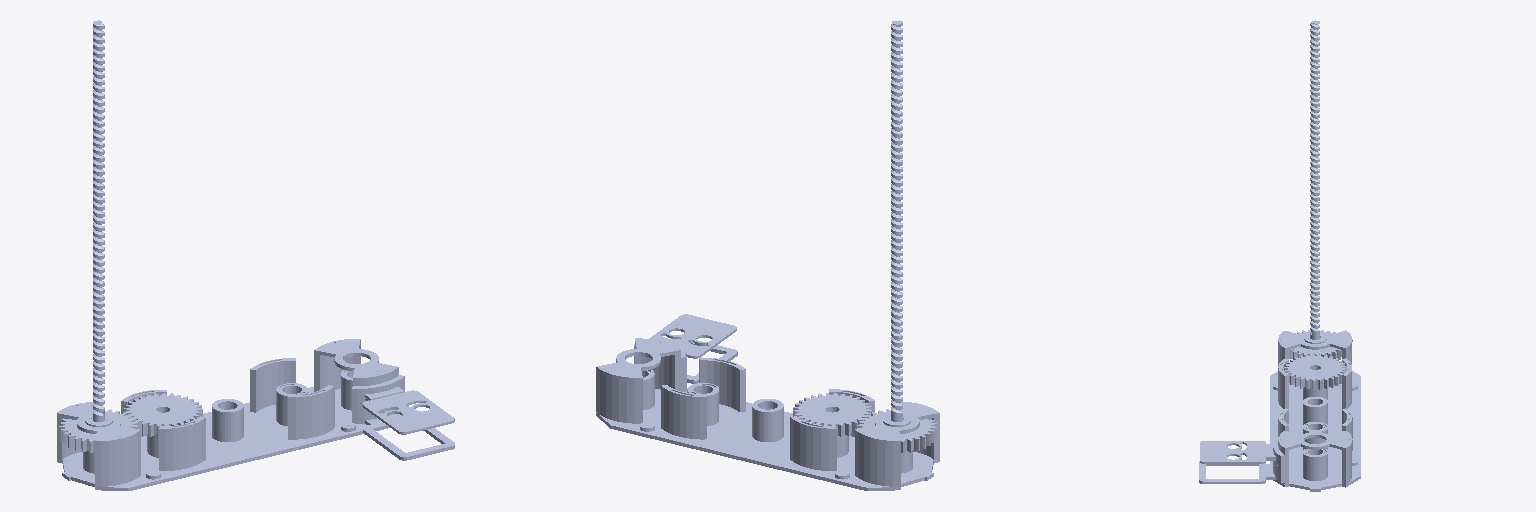
The robot description file, URDF, robot "solidworks2ros_try34":
<?xml version="1.0" encoding="utf-8"?>
<!-- This URDF was automatically created by SolidWorks to URDF Exporter! Originally created by [author] ([email redacted]) 
     Commit Version: 1.6.0-4-g7f85cfe  Build Version: 1.6.7995.38578
     For more information, please see http://wiki.ros.org/sw_urdf_exporter -->
<robot
  name="solidworks2ros_try34">

  <link name = "dummy">
  </link>

  <joint name="dummy_joint" type="fixed">
    <parent link="dummy"/>
    <child link="base_link"/>
  </joint>

  <link name="base_link">
    <inertial>
      <origin
        xyz="0.27421 -0.14456 0.35358"
        rpy="0 0 0" />
      <mass
        value="3338.7" />
      <inertia
        ixx="1620.8"
        ixy="5.8895E-06"
        ixz="0.005018"
        iyy="13518"
        iyz="-16.336"
        izz="14637" />
    </inertial>
    <visual>
      <origin
        xyz="0 0 0"
        rpy="0 0 0" />
      <geometry>
        <mesh
          filename="package://solidworks2ros_try34/meshes/base_link.STL" />
      </geometry>
      <material
        name="">
        <color
          rgba="0.79216 0.81961 0.93333 1" />
      </material>
    </visual>
    <collision>
      <origin
        xyz="0 0 0"
        rpy="0 0 0" />
      <geometry>
        <mesh
          filename="package://solidworks2ros_try34/meshes/base_link.STL" />
      </geometry>
    </collision>
  </link>

  <link name="link1">
    <inertial>
      <origin
        xyz="-0.0028443 0.0029656 1.6945"
        rpy="0 0 0" />
      <mass
        value="823.32" />
      <inertia
        ixx="2630.9"
        ixy="0.034568"
        ixz="-0.0063149"
        iyy="2630.9"
        iyz="0.23572"
        izz="118.2" />
    </inertial>
    <visual>
      <origin
        xyz="0 0 0"
        rpy="0 0 0" />
      <geometry>
        <mesh
          filename="package://solidworks2ros_try34/meshes/link1.STL" />
      </geometry>
      <material
        name="">
        <color
          rgba="0.79216 0.81961 0.93333 1" />
      </material>
    </visual>
    <collision>
      <origin
        xyz="0 0 0"
        rpy="0 0 0" />
      <geometry>
        <mesh
          filename="package://solidworks2ros_try34/meshes/link1.STL" />
      </geometry>
    </collision>
  </link>

  <joint name="joint1"
    type="continuous">
    <origin
      xyz="2.9619 -0.0029702 0.85629"
      rpy="0 0 0" />
    <parent
      link="base_link" />
    <child
      link="link1" />
    <axis
      xyz="0 0 -1" />
    <limit
      effort="100"
      velocity="2" />
  </joint>

  <link name="link2">
    <inertial>
      <origin
        xyz="0.0039258 0.0012118 -0.059794"
        rpy="0 0 0" />
      <mass
        value="479.53" />
      <inertia
        ixx="62.098"
        ixy="2.8139E-14"
        ixz="-1.8578E-13"
        iyy="62.098"
        iyz="-4.5183E-14"
        izz="114.95" />
    </inertial>
    <visual>
      <origin
        xyz="0 0 0"
        rpy="0 0 0" />
      <geometry>
        <mesh
          filename="package://solidworks2ros_try34/meshes/link2.STL" />
      </geometry>
      <material
        name="">
        <color
          rgba="0.79216 0.81961 0.93333 1" />
      </material>
    </visual>
    <collision>
      <origin
        xyz="0 0 0"
        rpy="0 0 0" />
      <geometry>
        <mesh
          filename="package://solidworks2ros_try34/meshes/link2.STL" />
      </geometry>
    </collision>
  </link>

  <joint name="joint2"
    type="continuous">
    <origin
      xyz="1.4756 -0.0012118 0.85629"
      rpy="0 0 0" />
    <parent
      link="base_link" />
    <child
      link="link2" />
    <axis
      xyz="0 0 -1" />
    <limit
      effort="100"
      velocity="2" />
  </joint>

  <link name="link3">
    <inertial>
      <origin
        xyz="-0.0028446 0.0029646 -0.059794"
        rpy="0 0 0" />
      <mass
        value="479.53" />
      <inertia
        ixx="62.098"
        ixy="-7.7929E-15"
        ixz="1.7451E-13"
        iyy="62.098"
        iyz="2.0066E-14"
        izz="114.95" />
    </inertial>
    <visual>
      <origin
        xyz="0 0 0"
        rpy="0 0 0" />
      <geometry>
        <mesh
          filename="package://solidworks2ros_try34/meshes/link3.STL" />
      </geometry>
      <material
        name="">
        <color
          rgba="0.79216 0.81961 0.93333 1" />
      </material>
    </visual>
    <collision>
      <origin
        xyz="0 0 0"
        rpy="0 0 0" />
      <geometry>
        <mesh
          filename="package://solidworks2ros_try34/meshes/link3.STL" />
      </geometry>
    </collision>
  </link>

  <joint name="joint3"
    type="continuous">
    <origin
      xyz="0.0028446 -0.0029646 0.85629"
      rpy="0 0 0" />
    <parent
      link="base_link" />
    <child
      link="link3" />
    <axis
      xyz="0 0 -1" />
    <limit
      effort="100"
      velocity="2" />
  </joint>

  <link name="link4">
    <inertial>
      <origin
        xyz="0.0039363 0.0011773 -0.059794"
        rpy="0 0 0" />
      <mass
        value="479.53" />
      <inertia
        ixx="62.098"
        ixy="6.512E-15"
        ixz="-3.1012E-14"
        iyy="62.098"
        iyz="-3.2073E-14"
        izz="114.95" />
    </inertial>
    <visual>
      <origin
        xyz="0 0 0"
        rpy="0 0 0" />
      <geometry>
        <mesh
          filename="package://solidworks2ros_try34/meshes/link4.STL" />
      </geometry>
      <material
        name="">
        <color
          rgba="0.79216 0.81961 0.93333 1" />
      </material>
    </visual>
    <collision>
      <origin
        xyz="0 0 0"
        rpy="0 0 0" />
      <geometry>
        <mesh
          filename="package://solidworks2ros_try34/meshes/link4.STL" />
      </geometry>
    </collision>
  </link>

  <joint name="joint4"
    type="continuous">
    <origin
      xyz="-1.4835 -0.0011773 0.85629"
      rpy="0 0 0" />
    <parent
      link="base_link" />
    <child
      link="link4" />
    <axis
      xyz="0 0 -1" />
    <limit
      effort="100"
      velocity="2" />
  </joint>
   
  <link name="link5">
    <inertial>
      <origin
        xyz="-0.0040861 0.00049413 1.6945"
        rpy="0 0 0" />
      <mass
        value="823.32" />
      <inertia
        ixx="2630.9"
        ixy="0.0059087"
        ixz="0.17812"
        iyy="2630.8"
        iyz="0.15453"
        izz="118.2" />
    </inertial>
    <visual>
      <origin
        xyz="0 0 0"
        rpy="0 0 0" />
      <geometry>
        <mesh
          filename="package://solidworks2ros_try34/meshes/link5.STL" />
      </geometry>
      <material
        name="">
        <color
          rgba="0.79216 0.81961 0.93333 1" />
      </material>
    </visual>
    <collision>
      <origin
        xyz="0 0 0"
        rpy="0 0 0" />
      <geometry>
        <mesh
          filename="package://solidworks2ros_try34/meshes/link5.STL" />
      </geometry>
    </collision>
  </link>

  <joint name="joint5"
    type="continuous">
    <origin
      xyz="-2.955 -0.00049273 0.85629"
      rpy="0 0 0" />
    <parent
      link="base_link" />
    <child
      link="link5" />
    <axis
      xyz="0 0 -1" />
    <limit
      effort="100"
      velocity="2" />
  </joint>

  <transmission name="trans1">
    <type>transmission_interface/SimpleTransmission</type>
    <joint name="joint1">
      <hardwareInterface>hardware_interface/VelocityJointInterface</hardwareInterface>
    </joint>
    <actuator name="motor1">
      <hardwareInterface>hardware_interface/VelocityJointInterface</hardwareInterface>
      <mechanicalReduction>1</mechanicalReduction>
    </actuator>
  </transmission>

  <transmission name="trans2">
    <type>transmission_interface/SimpleTransmission</type>
    <joint name="joint2">
      <hardwareInterface>hardware_interface/VelocityJointInterface</hardwareInterface>
    </joint>
    <actuator name="motor2">
      <hardwareInterface>hardware_interface/VelocityJointInterface</hardwareInterface>
      <mechanicalReduction>1</mechanicalReduction>
    </actuator>
  </transmission>

  <transmission name="trans3">
    <type>transmission_interface/SimpleTransmission</type>
    <joint name="joint3">
      <hardwareInterface>hardware_interface/VelocityJointInterface</hardwareInterface>
    </joint>
    <actuator name="motor3">
      <hardwareInterface>hardware_interface/VelocityJointInterface</hardwareInterface>
      <mechanicalReduction>1</mechanicalReduction>
    </actuator>
  </transmission>

  <transmission name="trans4">
    <type>transmission_interface/SimpleTransmission</type>
    <joint name="joint4">
      <hardwareInterface>hardware_interface/VelocityJointInterface</hardwareInterface>
    </joint>
    <actuator name="motor4">
      <hardwareInterface>hardware_interface/VelocityJointInterface</hardwareInterface>
      <mechanicalReduction>1</mechanicalReduction>
    </actuator>
  </transmission>

  <transmission name="trans5">
    <type>transmission_interface/SimpleTransmission</type>
    <joint name="joint5">
      <hardwareInterface>hardware_interface/VelocityJointInterface</hardwareInterface>
    </joint>
    <actuator name="motor5">
      <hardwareInterface>hardware_interface/VelocityJointInterface</hardwareInterface>
      <mechanicalReduction>1</mechanicalReduction>
    </actuator>
  </transmission>

  <!-- Gazebo controller -->
  <gazebo>
      <plugin name="ros_control" filename="libgazebo_ros_control.so"/>
  </gazebo>

</robot>

--- Render facts (derived) ---
3 views of the same robot in one strip: view 1: azimuth 30°, elevation 25°; view 2: azimuth 150°, elevation 25°; view 3: azimuth 270°, elevation 25° (orthographic).
Model solidworks2ros_try34 with 7 links and 6 joints (5 continuous, 1 fixed), rooted at dummy, posed all joints at 0.
Visible links, largest first — view 1: base_link, link5, link4; view 2: base_link, link5, link4; view 3: base_link, link5, link4.
Link boxes in pixels (x1,y1,x2,y2): base_link: (57,339,454,490); link5: (59,20,137,452); link4: (124,393,202,437); base_link: (596,314,939,490); link5: (858,20,936,452); link4: (793,393,871,437); base_link: (1199,330,1360,491); link5: (1289,20,1341,359); link4: (1284,354,1346,389).
Size in the robot's own frame: 7.47 by 4.06 by 9.81 metres.
3 mesh visuals loaded from 6 distinct referenced files (3 binary STL); not drawn: 3 (reference not matched to a file when rendering).